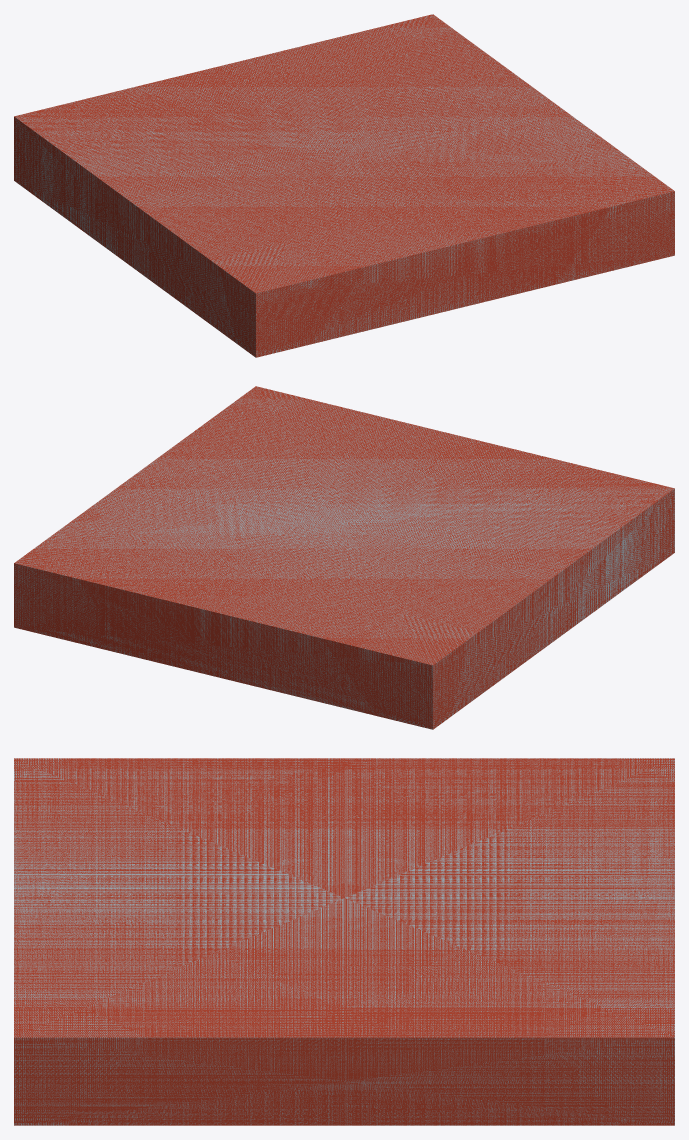
File: Block_01.obj
The picture shows the model from 3 angles, top to bottom: view 1: azimuth 30°, elevation 25°; view 2: azimuth 150°, elevation 25°; view 3: azimuth 270°, elevation 25°; orthographic projection. The views are drawn at different scales.
Visible parts, largest first — view 1: Mesh1 Block Model; view 2: Mesh1 Block Model; view 3: Mesh1 Block Model.
Part boxes in pixels (box(x1,y1,x2,y2)): Mesh1 Block Model: box(14, 14, 674, 357); Mesh1 Block Model: box(14, 386, 674, 729); Mesh1 Block Model: box(14, 758, 674, 1125).
Size of the model in its own units: 3 by 0.44 by 3.
